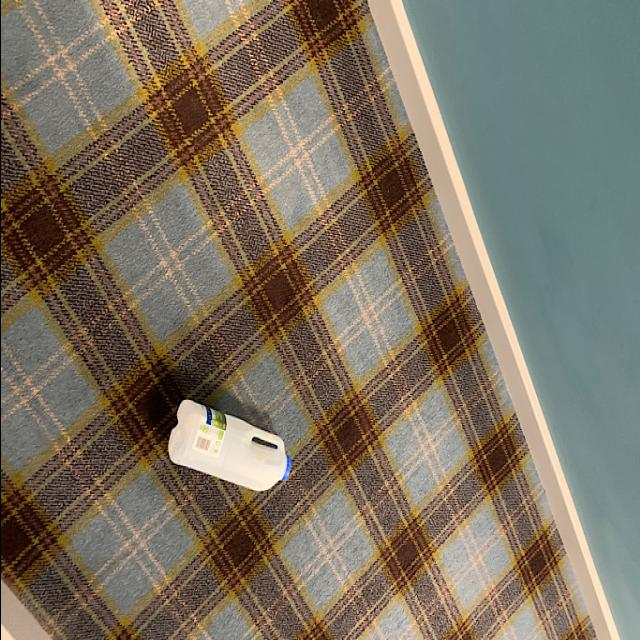HDPEM: (168, 395, 294, 493)
